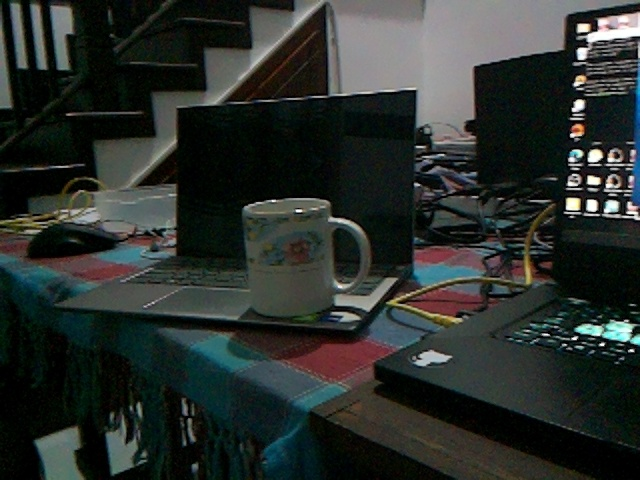mug: (240, 197, 374, 317)
